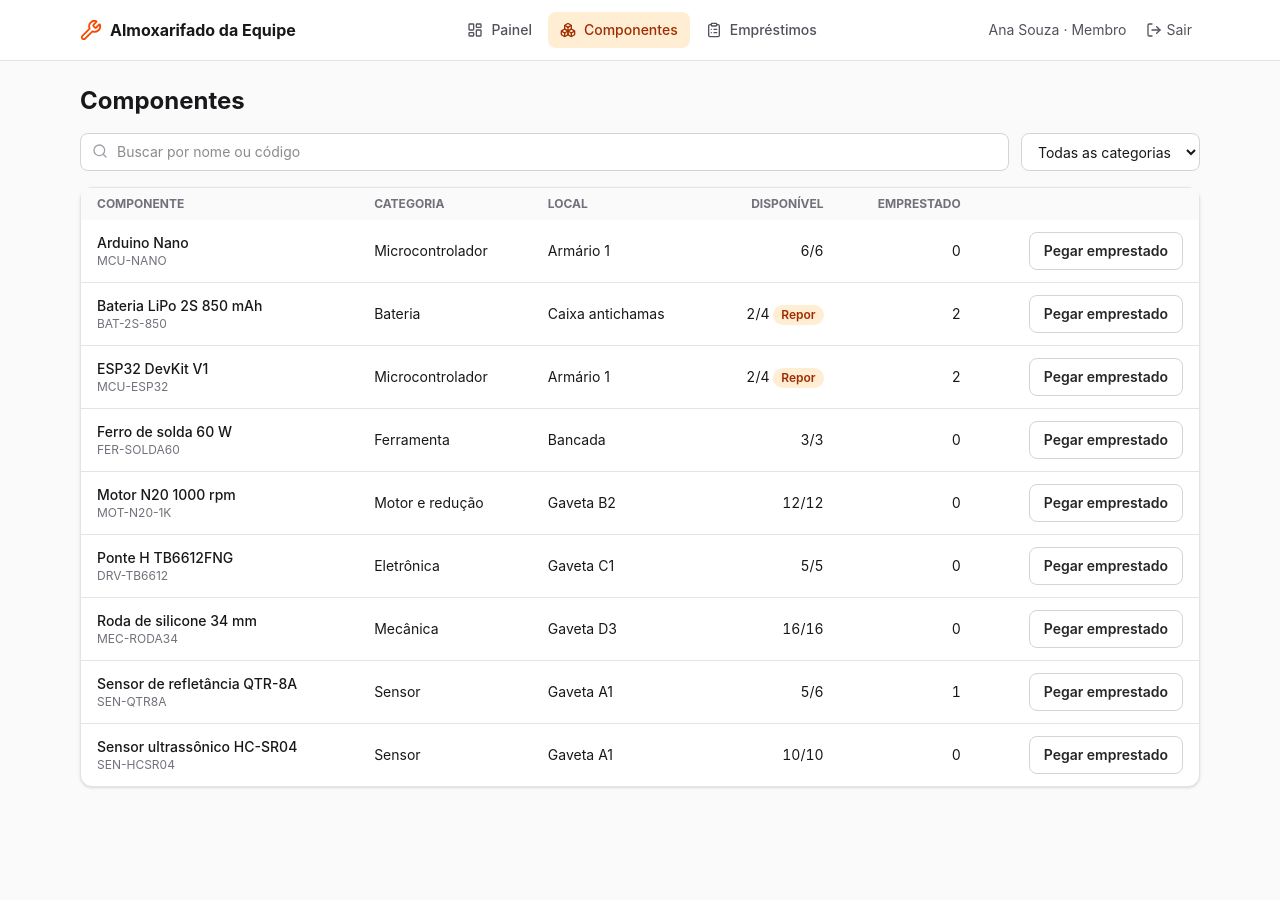
it: componentes › mostra o erro da API ao pedir mais do que há disponível
Expected: the text "ESP32 DevKit V1" is shown, [97,360,208,377]
Click the button "Pegar emprestado" in the row of "ESP32 DevKit V1" at (1106, 377), box [1029,358,1183,396]
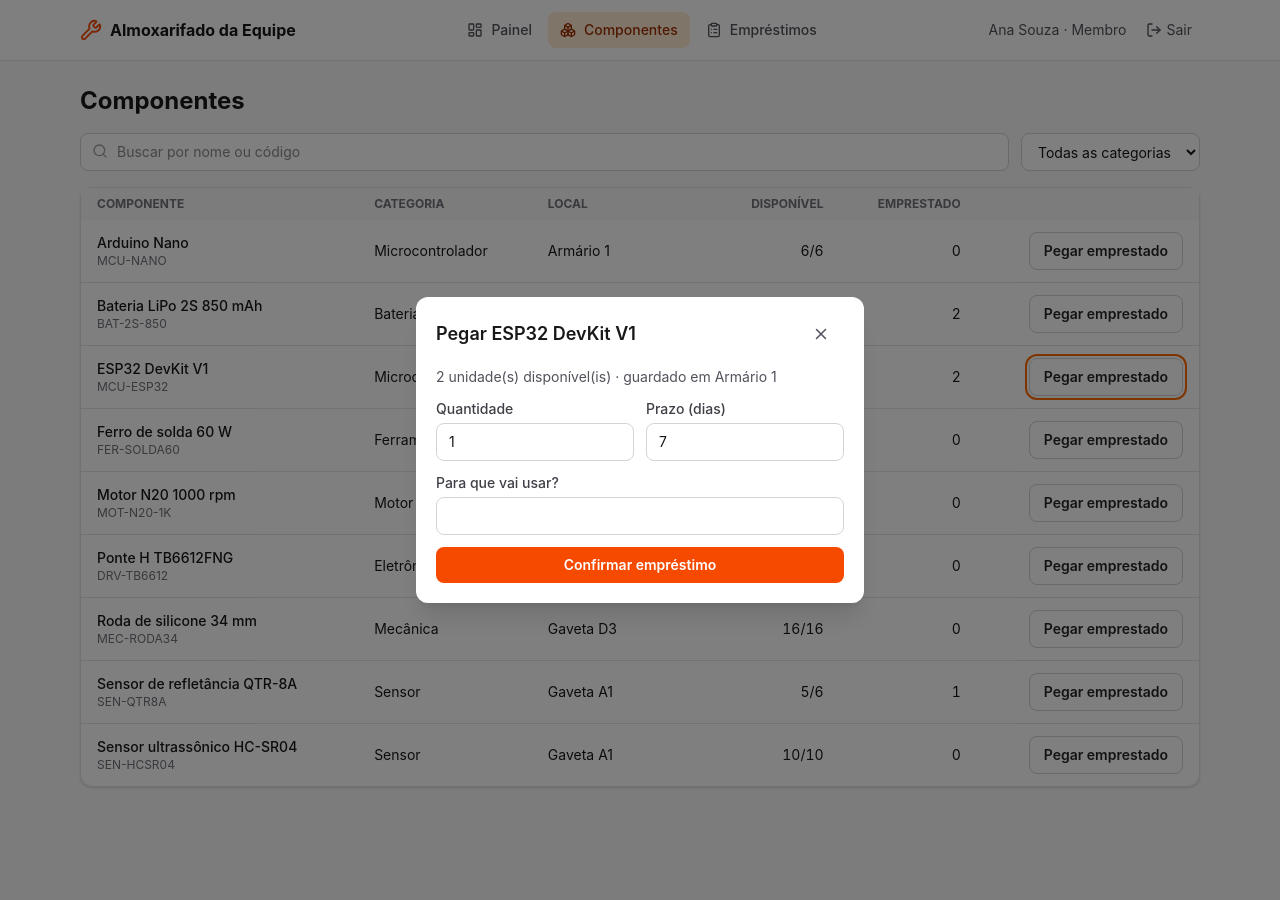
Replace the text in the number field labelled "Quantidade" with "3" at (535, 442), box [436,423,634,461]
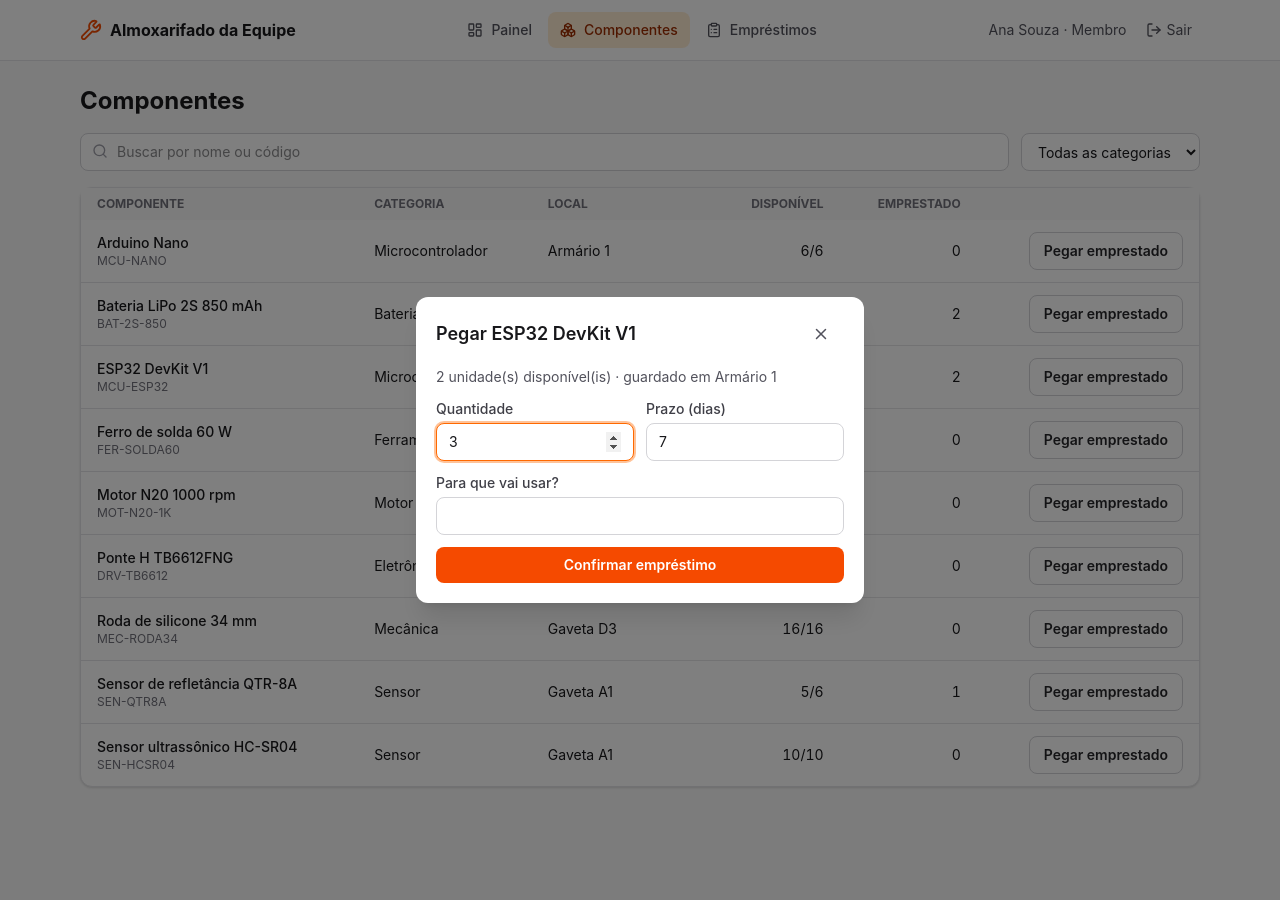
Type "Teste" into the field labelled "Para que vai usar?" at (640, 516), box [436,497,844,535]
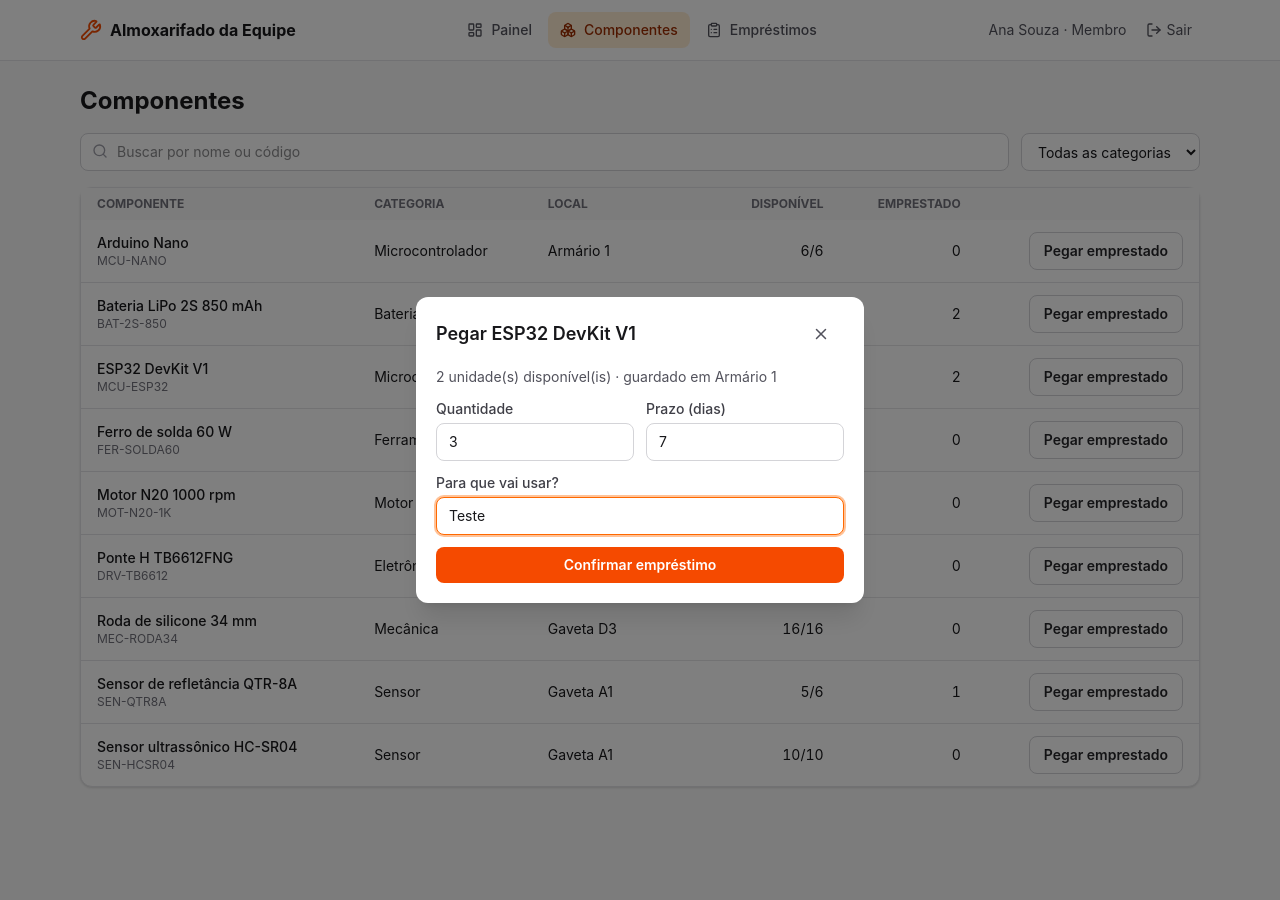
Click the button "Confirmar empréstimo" at (640, 565), box [436,547,844,583]
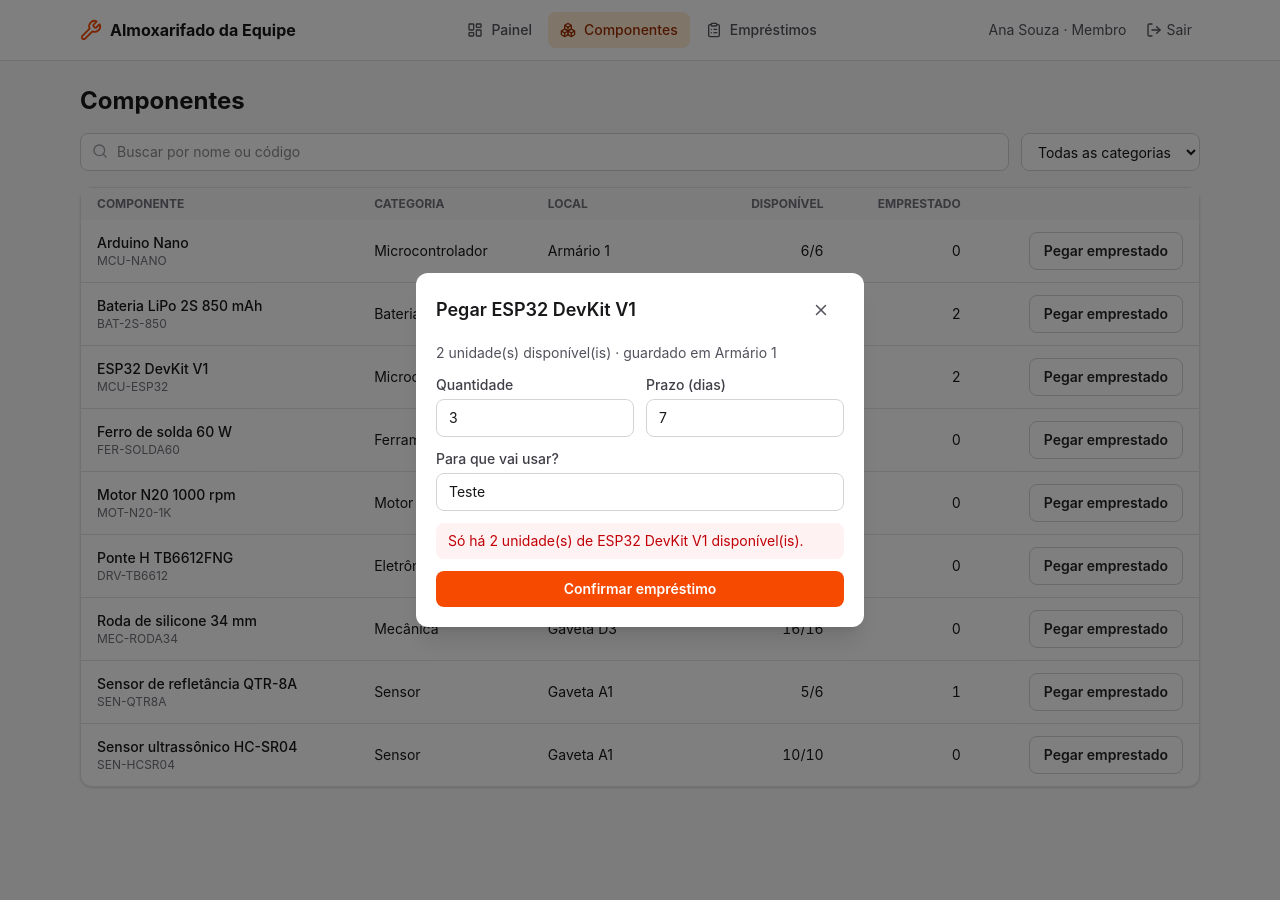
Result: the message shows "Só há 2 unidade(s)" at [448,532,804,549]
